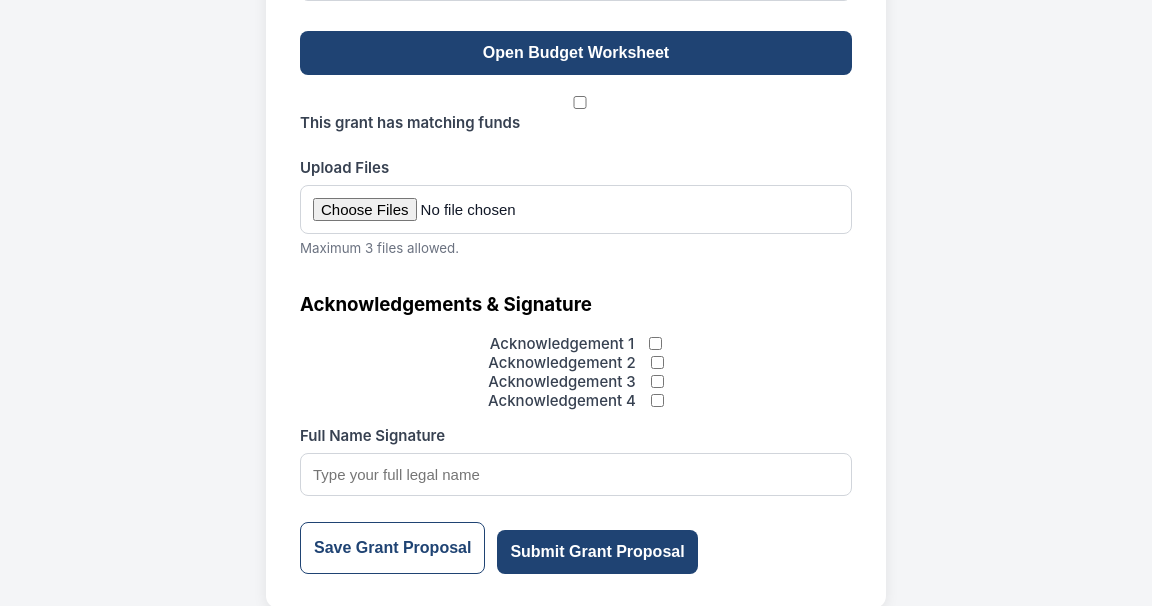
it: NewGrant › clears field error as user types
(page scrolled)
Click the button "Submit Grant Proposal". click: [598, 552]
box: [497,530,698,574]
(page scrolled)
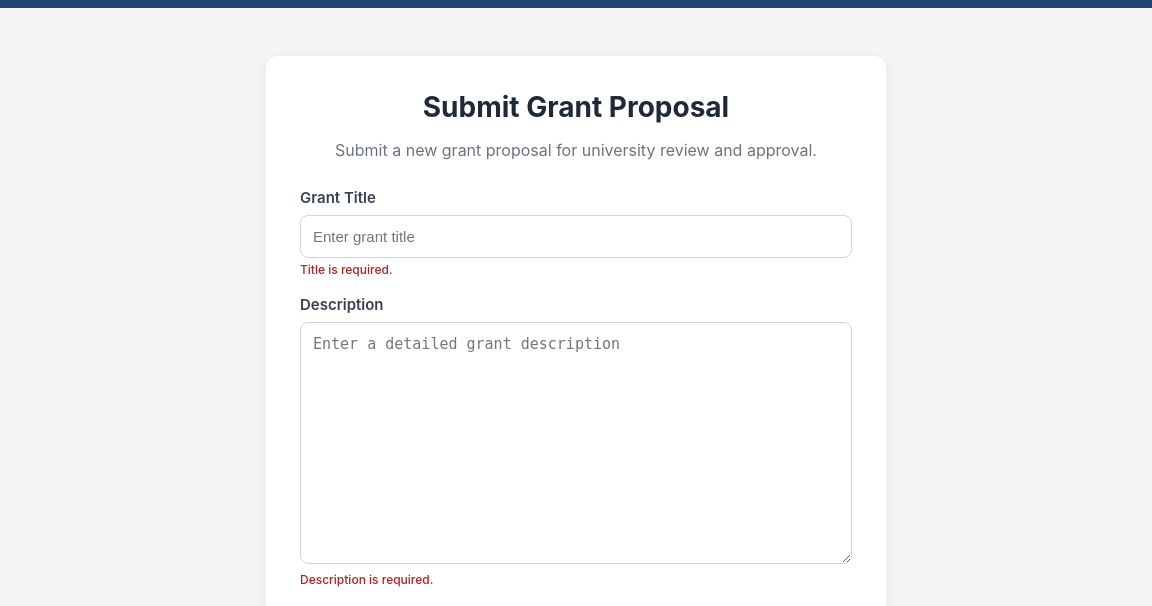
Expected: the text "Title is required." is shown, [300,262,393,277]
Type "x" into the field labelled "Grant Title". click: [576, 236]
box: [300,215,852,258]
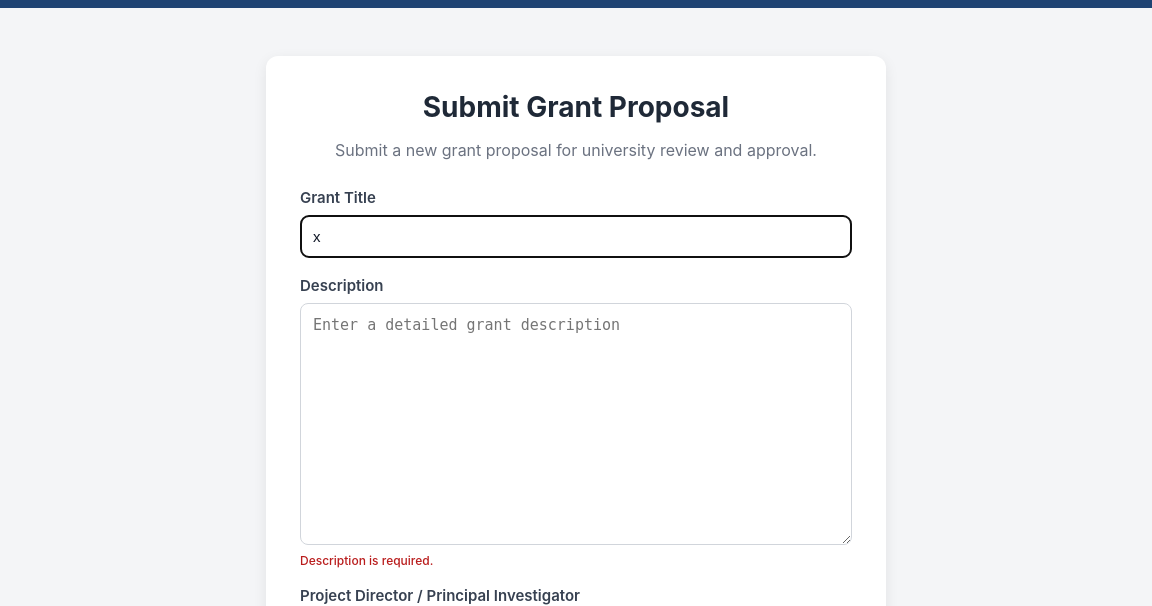
Expected: the text "Title is required" is gone
